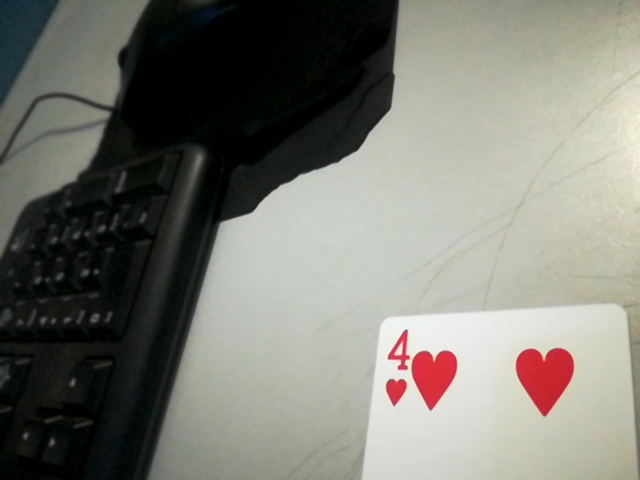hx 4: (375, 328, 415, 413)
